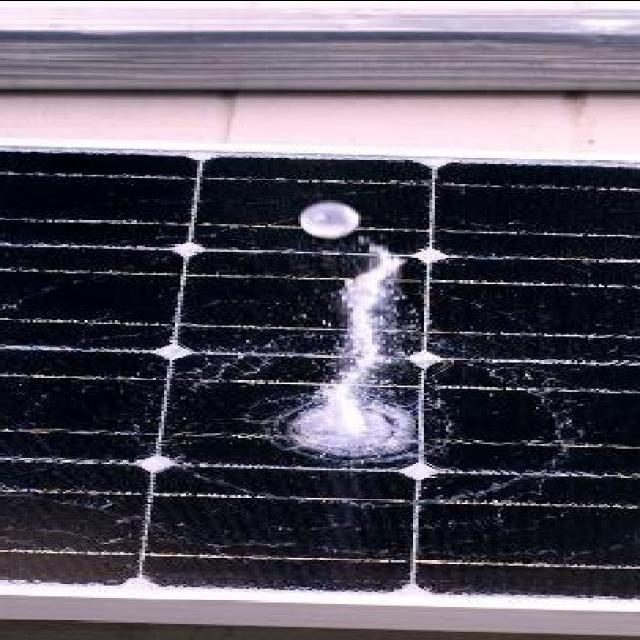cracked: (0, 147, 638, 608)
